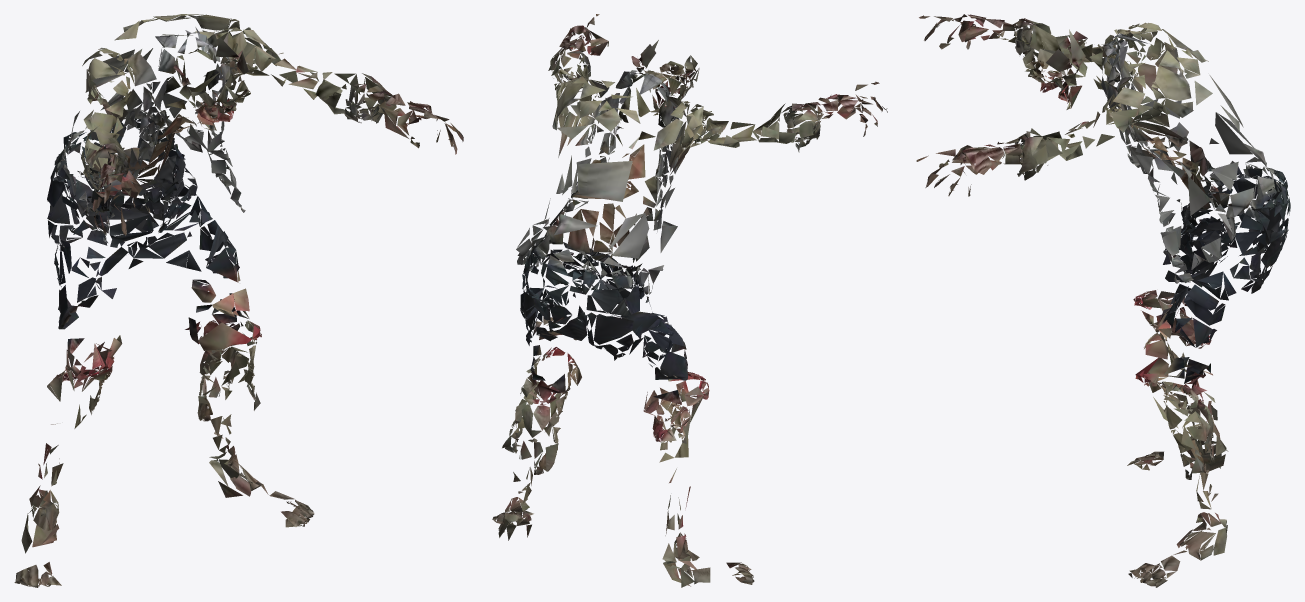
Rendered from zombie.glb.
The picture shows the model from 3 angles, left to right: view 1: azimuth 30°, elevation 25°; view 2: azimuth 150°, elevation 25°; view 3: azimuth 270°, elevation 25°; orthographic projection. The views are drawn at different scales.
Parts seen in each view (by area): view 1: Mesh_0; view 2: Mesh_0; view 3: Mesh_0.
Part boxes in pixels (bbox=[...]): Mesh_0: bbox=[14, 14, 463, 587]; Mesh_0: bbox=[492, 14, 887, 587]; Mesh_0: bbox=[916, 14, 1290, 587].
Bounding box in the file's own units: 0.6637 × 0.9696 × 0.661.
1 material, 1 textured.
